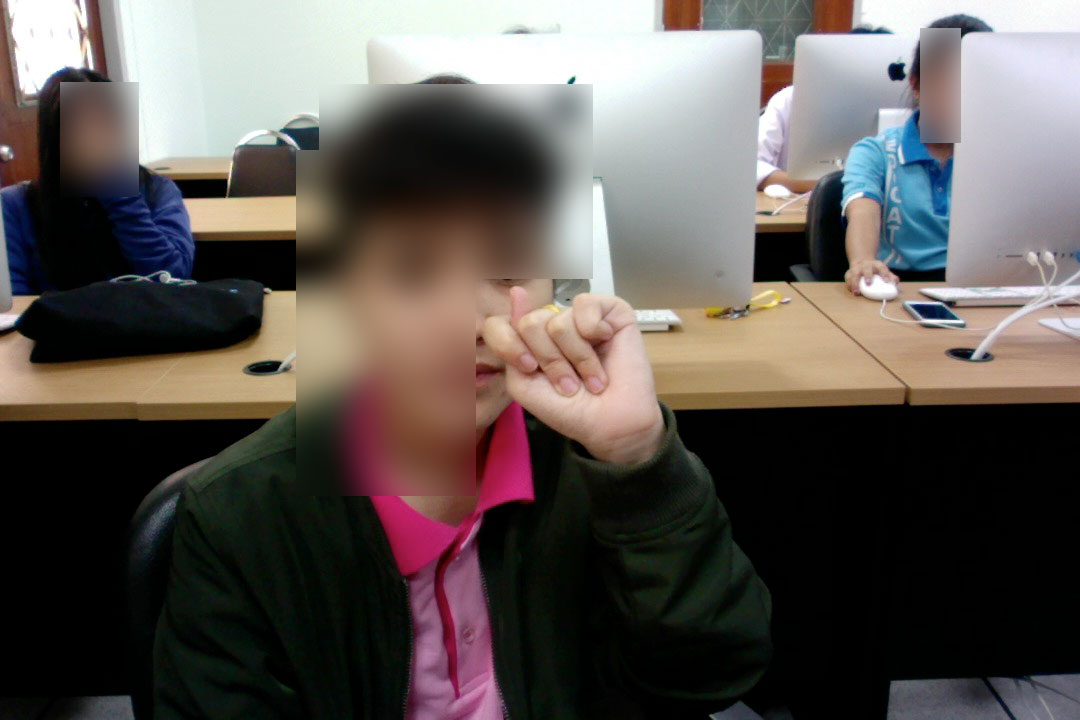tor: (473, 285, 675, 471)
